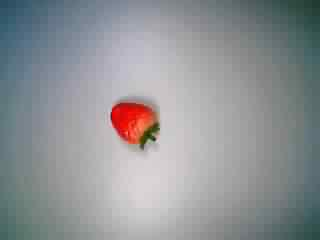strawberry: (102, 94, 171, 150)
